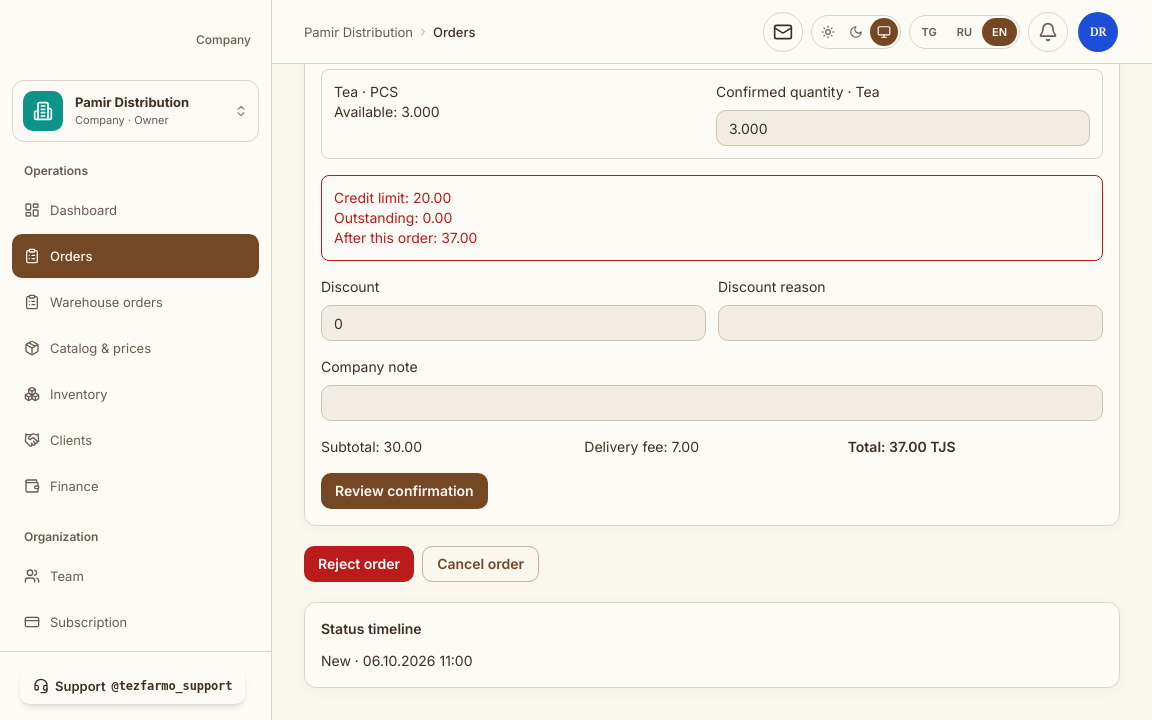
it: requires an owner credit reason before confirmation
The image size is (1152, 720).
(page scrolled)
Click the button "Review confirmation": {"x": 404, "y": 491} [321,473,488,509]
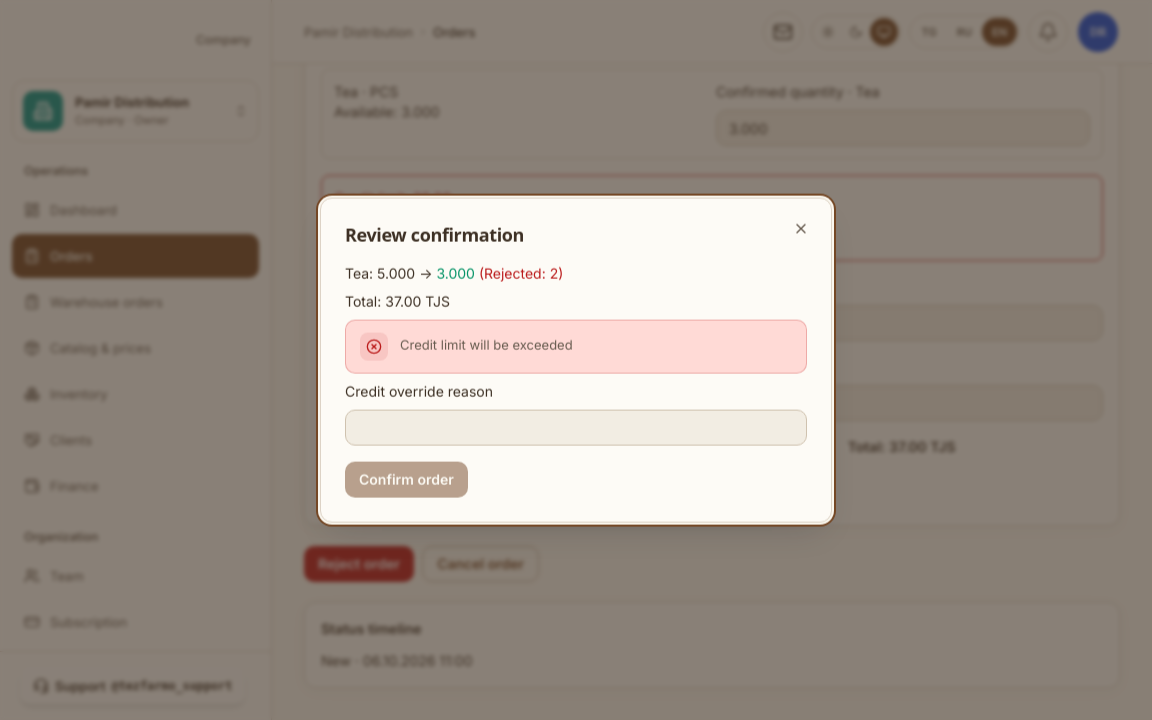
Now the button "Confirm order" is disabled, box [345,461,468,497]
In the field labelled "Credit override reason": {"x": 576, "y": 427} [358,410,794,444], type "Owner approval"
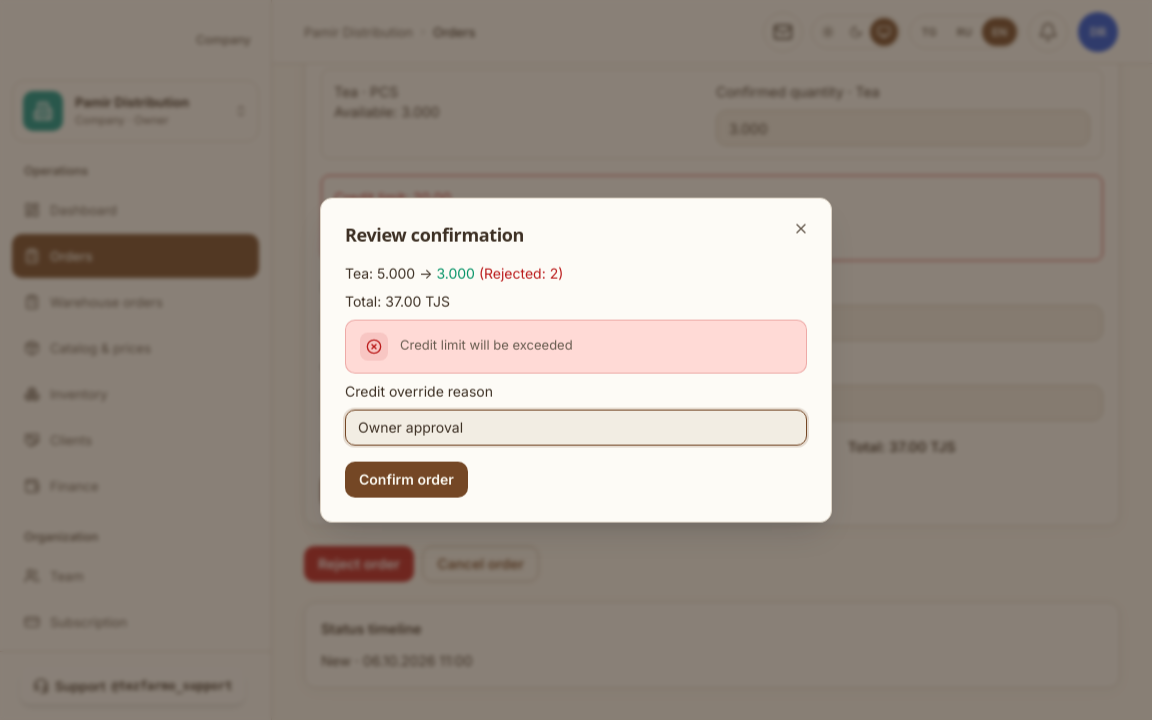
Now the button "Confirm order" is enabled, box [345,461,468,497]
